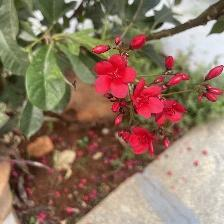jatropha: (95, 52, 136, 102)
